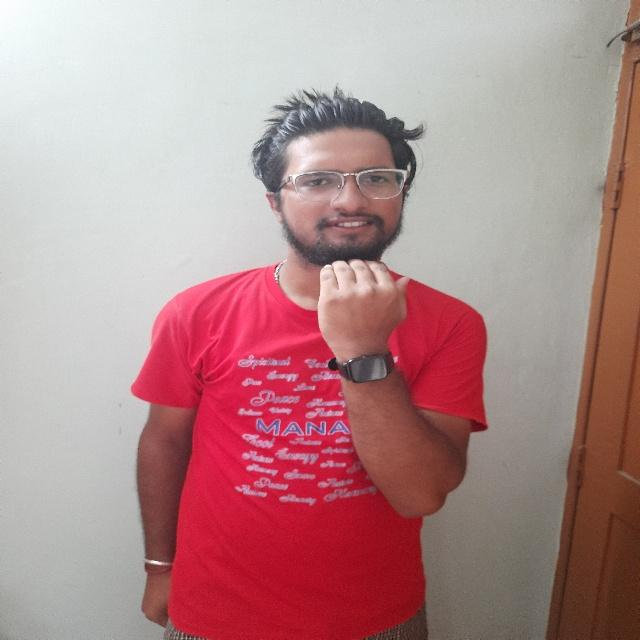Chin Flick: (253, 88, 436, 364)
